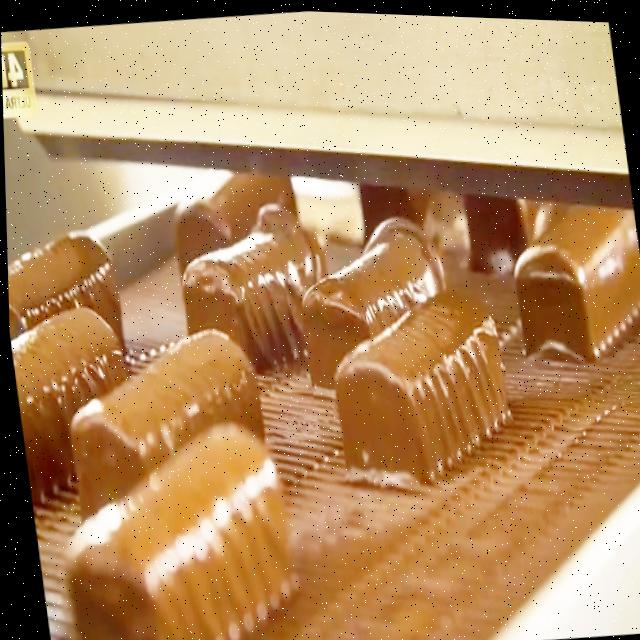Choco: (43, 407, 304, 640), (53, 311, 272, 523), (318, 272, 518, 491), (169, 193, 339, 389), (285, 200, 458, 389), (7, 292, 139, 514), (502, 187, 640, 365), (5, 205, 130, 391), (159, 155, 301, 298)
